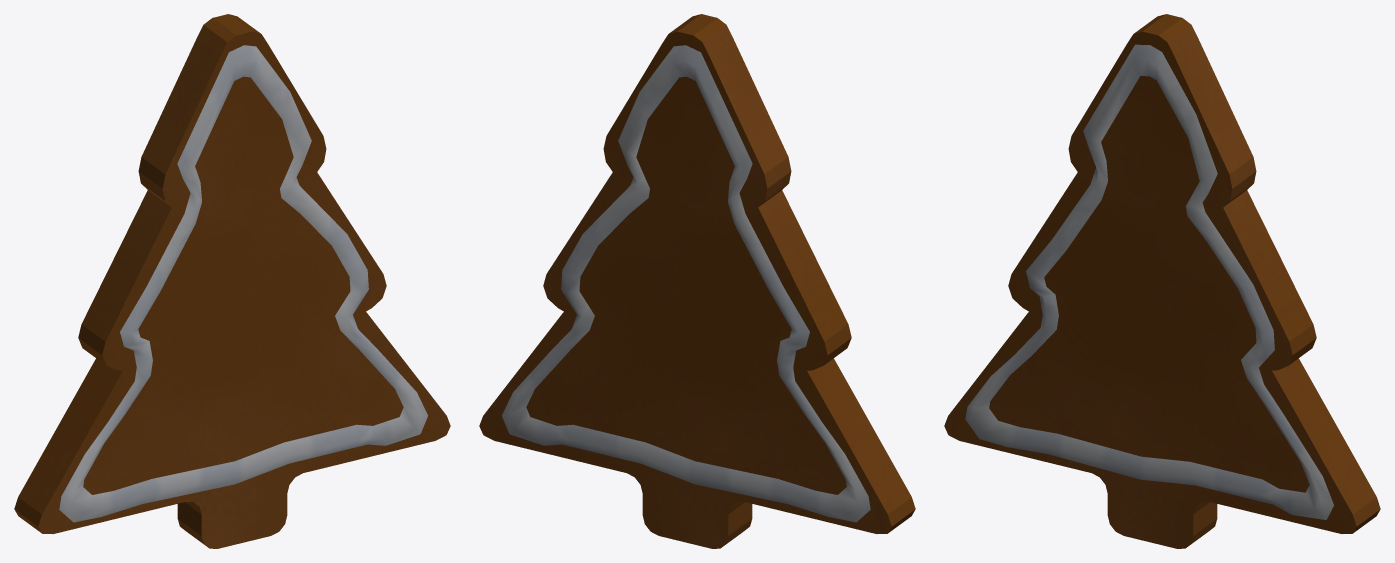
File: GingerBreadTree.gltf
3 renders of one model, left to right at view 1: azimuth 30°, elevation 25°; view 2: azimuth 150°, elevation 25°; view 3: azimuth 330°, elevation 25°, orthographic.
Parts seen in each view (by area): view 1: GingerBreadTree; view 2: GingerBreadTree; view 3: GingerBreadTree.
Part boxes in pixels (left/top/right/bottom): GingerBreadTree: left=14, top=14, right=450, bottom=548; GingerBreadTree: left=479, top=14, right=915, bottom=548; GingerBreadTree: left=944, top=14, right=1380, bottom=548.
Size of what is drawn, in the model's own units: 2.77 by 3.27 by 0.3467.
Materials: 2 (2 with a texture image).
